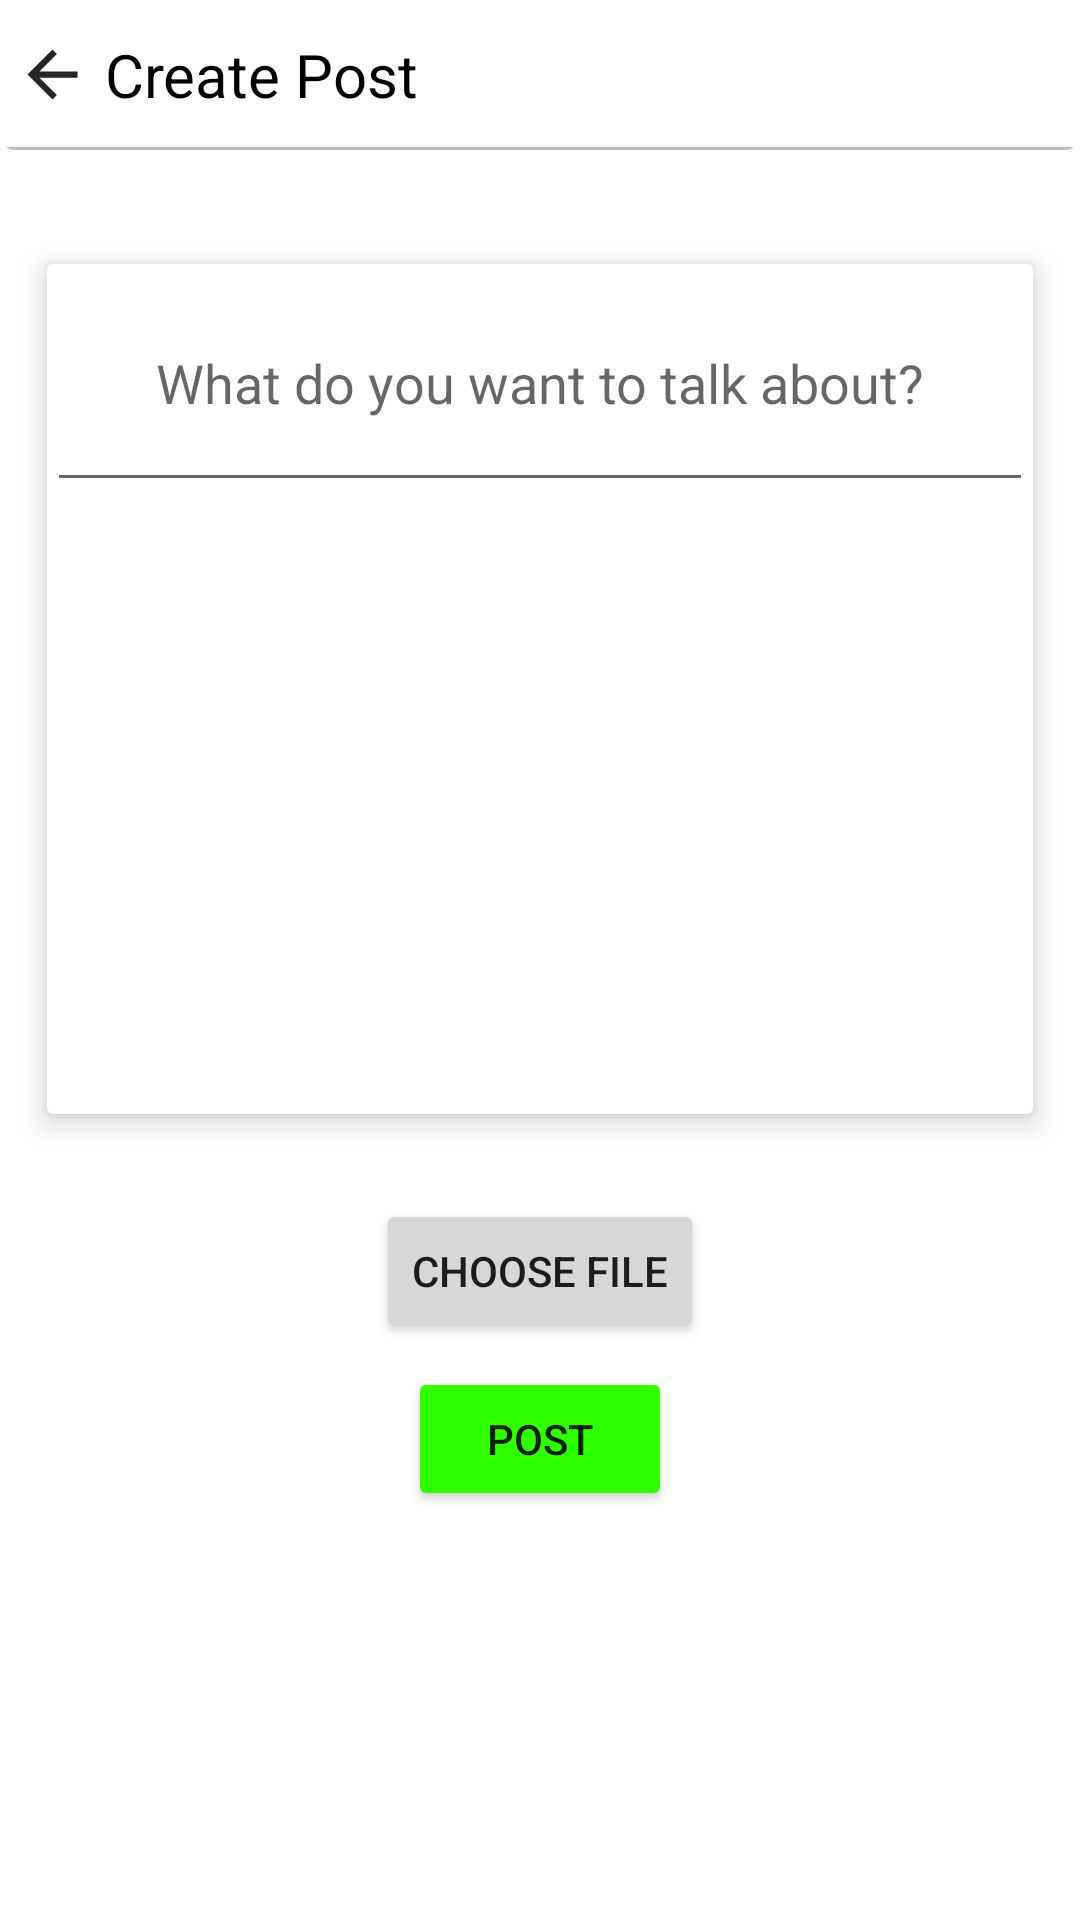

Screen size 1080w x 1920h. Icon name, then its center in pixels as (x,y):
arrow back: (52,74)
